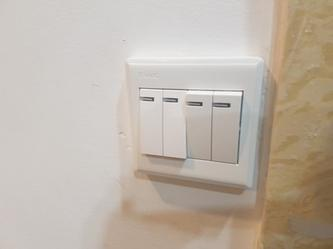switch: (208, 88, 242, 167), (184, 86, 216, 163), (160, 86, 189, 161), (138, 84, 165, 158)
